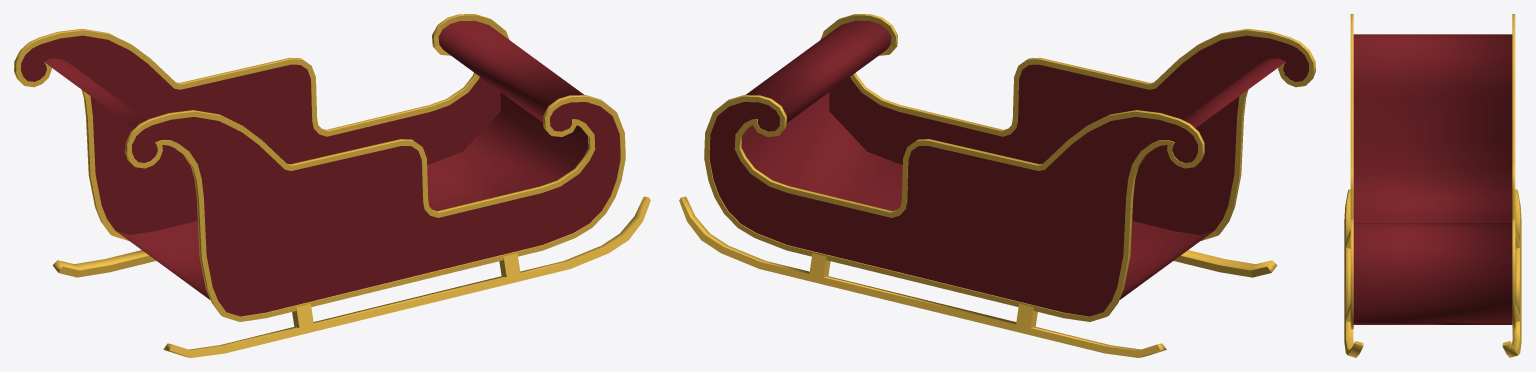
The model's file is plainSleigh.glb.
3 renders of one model, left to right at view 1: azimuth 30°, elevation 25°; view 2: azimuth 150°, elevation 25°; view 3: azimuth 270°, elevation 25°, orthographic. The views are drawn at different scales.
Visible parts, largest first — view 1: PlainSleigh; view 2: PlainSleigh; view 3: PlainSleigh.
Part boxes in pixels (x1,y1,x2,y2): PlainSleigh: (14,14,650,357); PlainSleigh: (679,14,1315,357); PlainSleigh: (1344,14,1521,357).
Size of the model in its own units: 5.16 by 2.36 by 2.06.
Materials: 3 (3 with a texture image).
